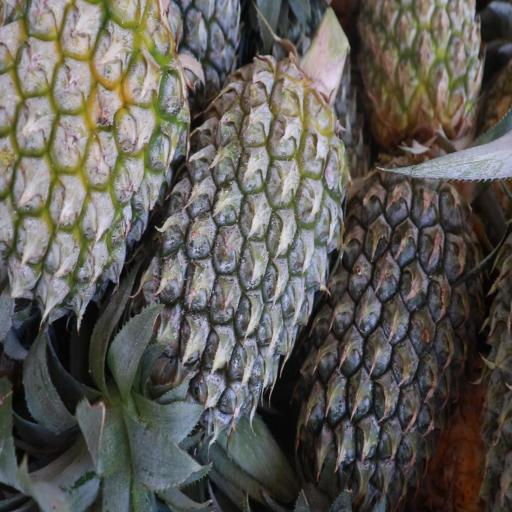------------------------------: (0, 1, 185, 286), (360, 0, 482, 137)
